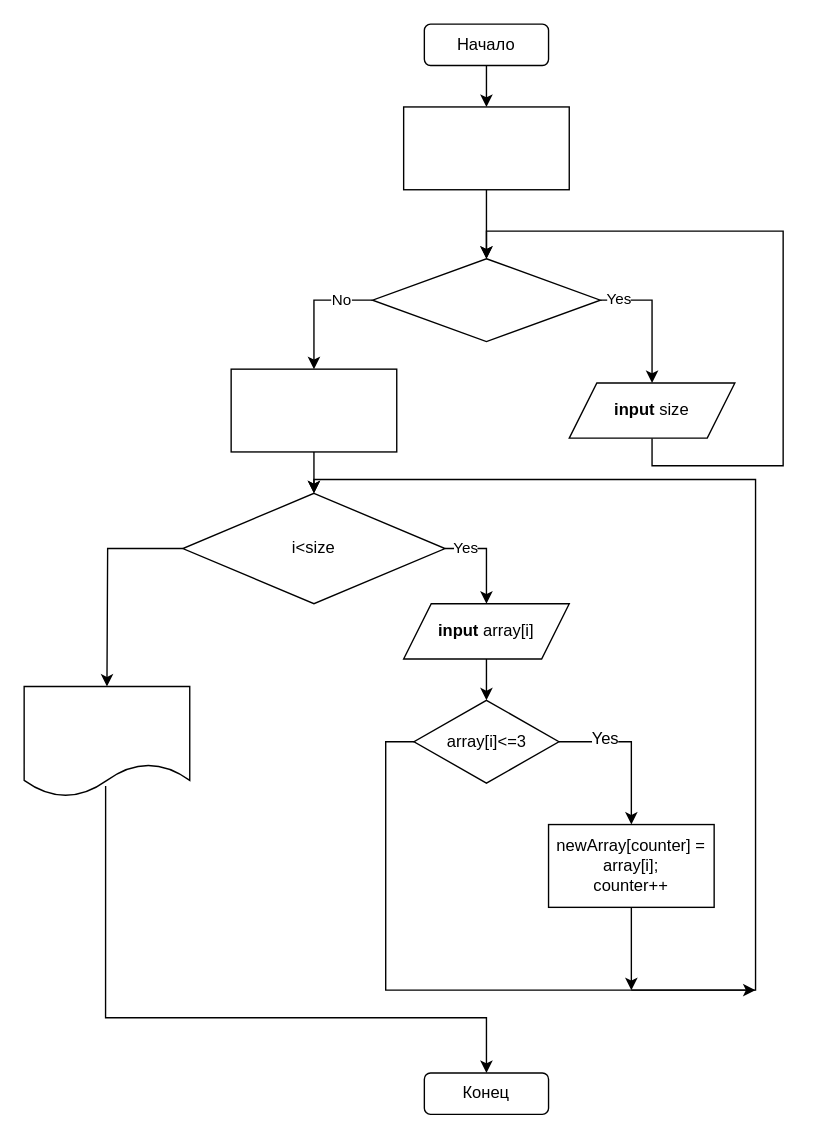
The diagram is 818 pixels wide and 1139 high, and some of its shapes have lost their labels. The shapes that lost their labels are listed below. From the top down, each one's centre as x and y in pixels, then its label:
(x=485, y=148): int size = 0
(x=485, y=299): size<=0
(x=313, y=410): string array[size], newArray{}; int counter=0, i=0
(x=106, y=741): output array, newArray
